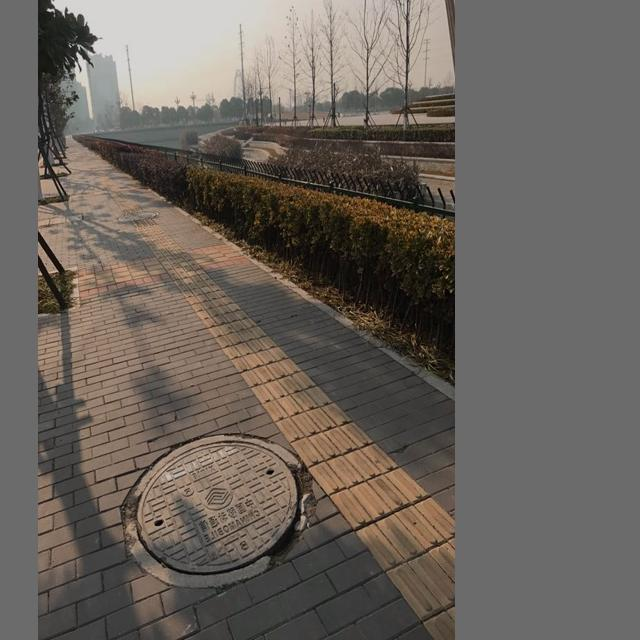circle: (119, 433, 316, 587)
